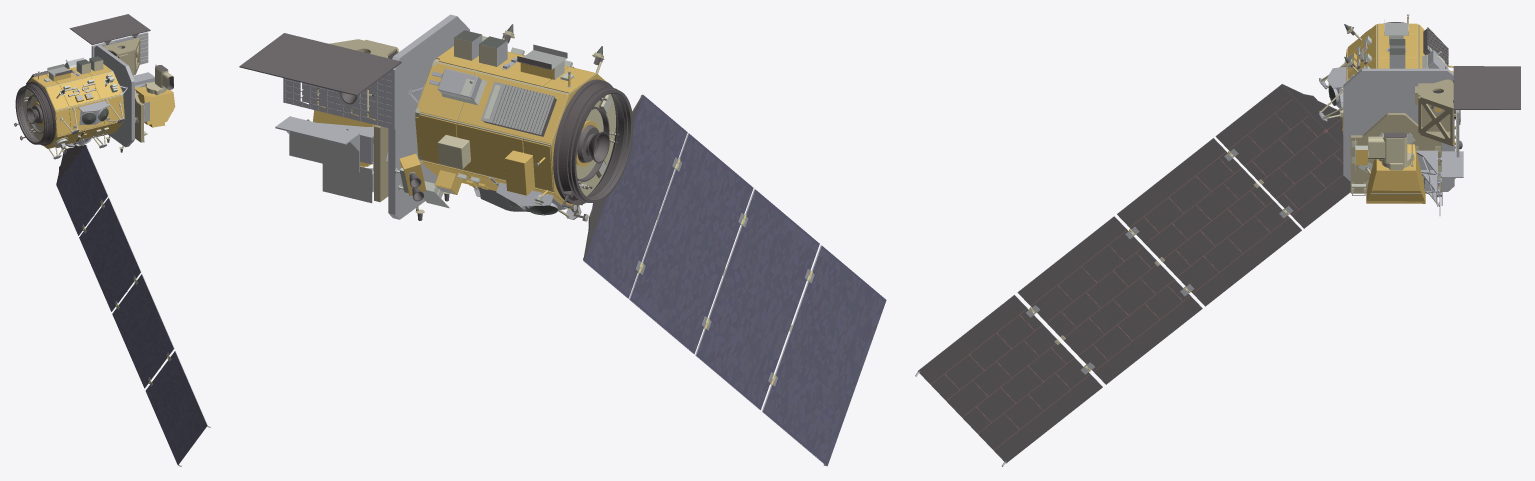
File: landsat8.glb
3 views of the same model, side by side, from view 1: azimuth 30°, elevation 25°; view 2: azimuth 150°, elevation 25°; view 3: azimuth 270°, elevation 25° (orthographic). The views are drawn at different scales.
Visible parts, largest first — view 1: Layer_0; view 2: Layer_0; view 3: Layer_0.
Boxes of the visible parts, box(x1,y1,x2,y2) form: Layer_0: box(14, 14, 210, 466); Layer_0: box(239, 14, 886, 466); Layer_0: box(915, 14, 1520, 466).
Size of the model in its own units: 4.97 by 10.04 by 12.26.
Materials: 5 (5 with a texture image).
